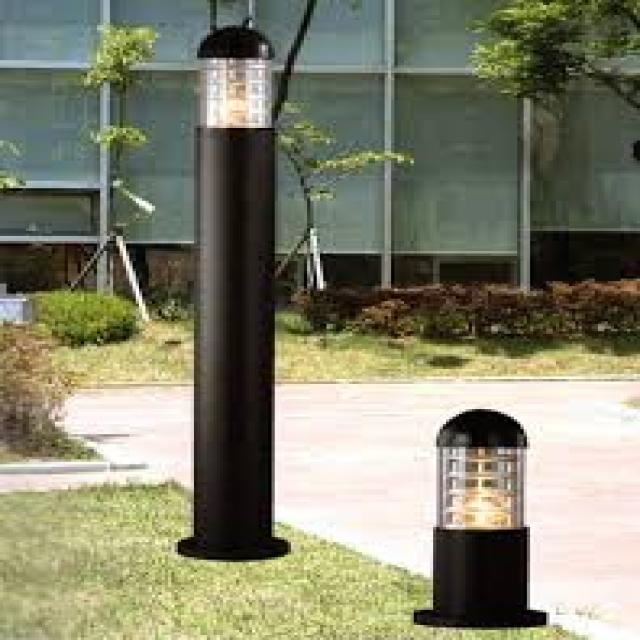bollard: (175, 21, 291, 567), (403, 381, 569, 628)
